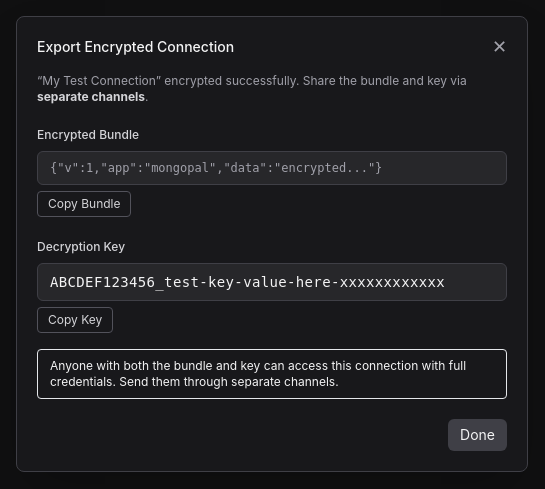
Test: ExportEncryptedOverlay › copies key to clipboard and shows feedback
The image size is (545, 489).
Click the button "Copy Key" at (75, 320), box 37,307 -> 113,333
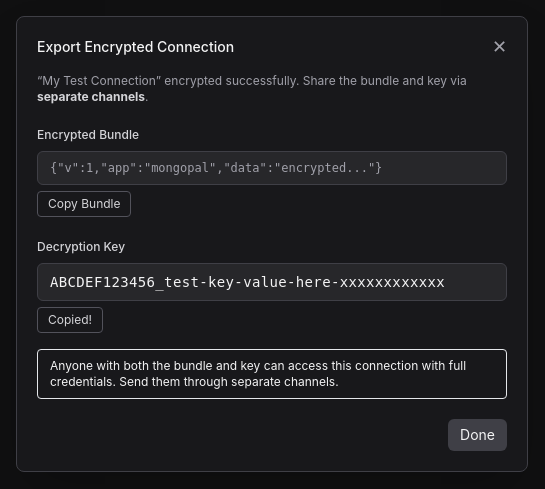
Expected: the button "Copied!" is shown, 37,307 -> 103,333
